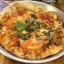basil: (28, 16, 42, 29), (14, 19, 26, 32)
pizza: (1, 1, 64, 59)
